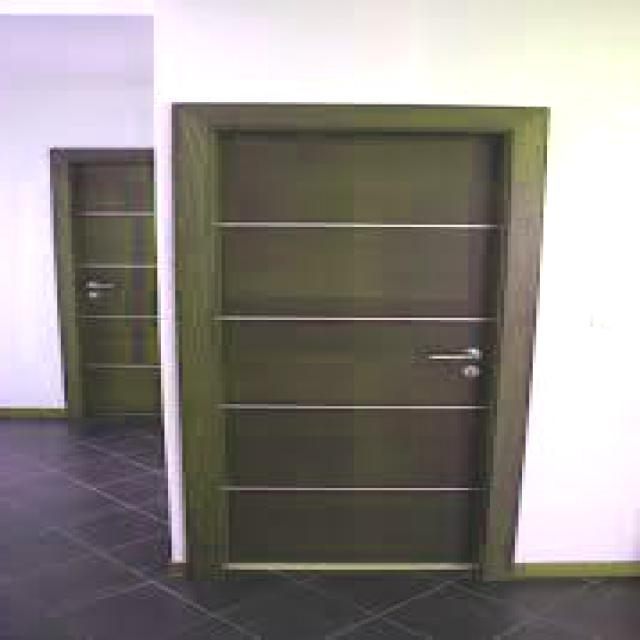door: (166, 83, 573, 582)
